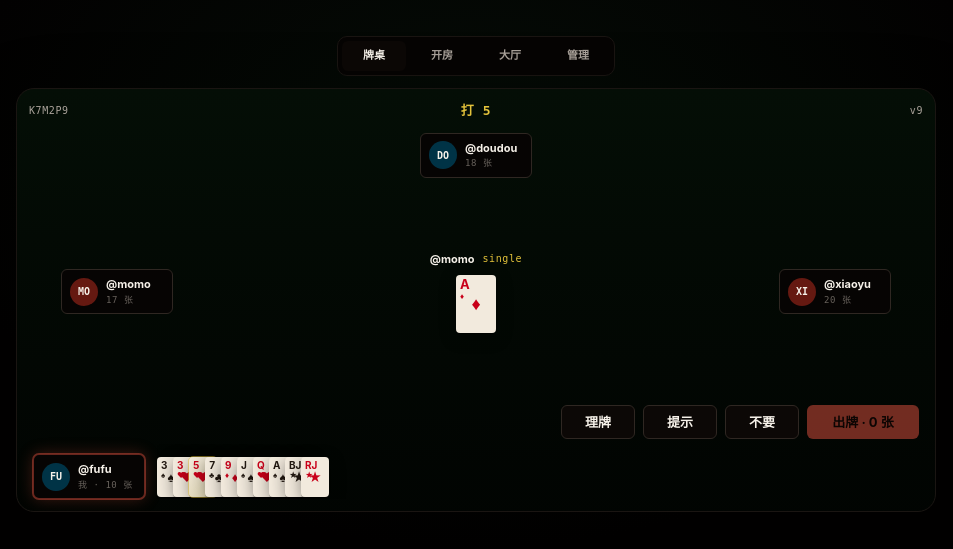
App shell › uses assistance APIs to sort and select a suggested move
Click the button "开房" at (442, 56), box [410,41,474,71]
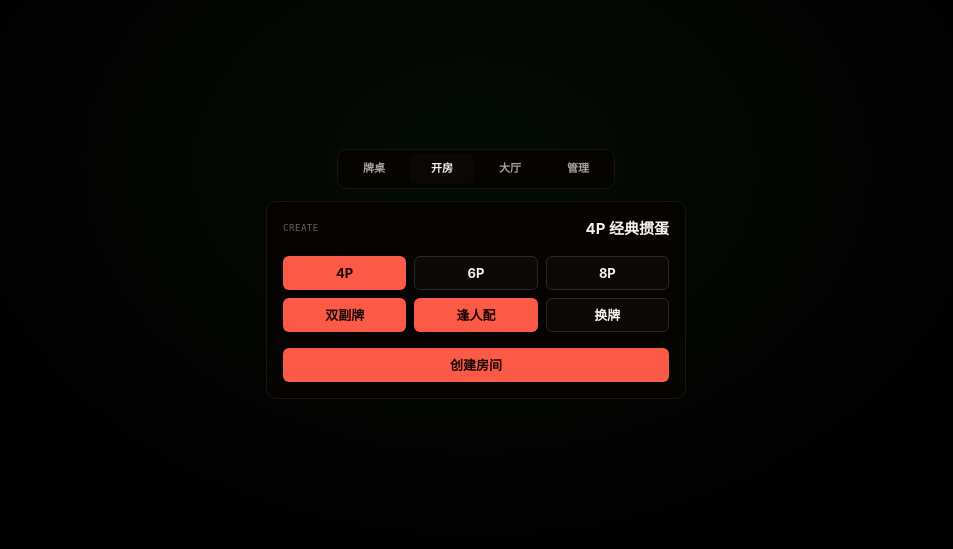
Click the button "创建房间" at (476, 365), box [283,348,669,382]
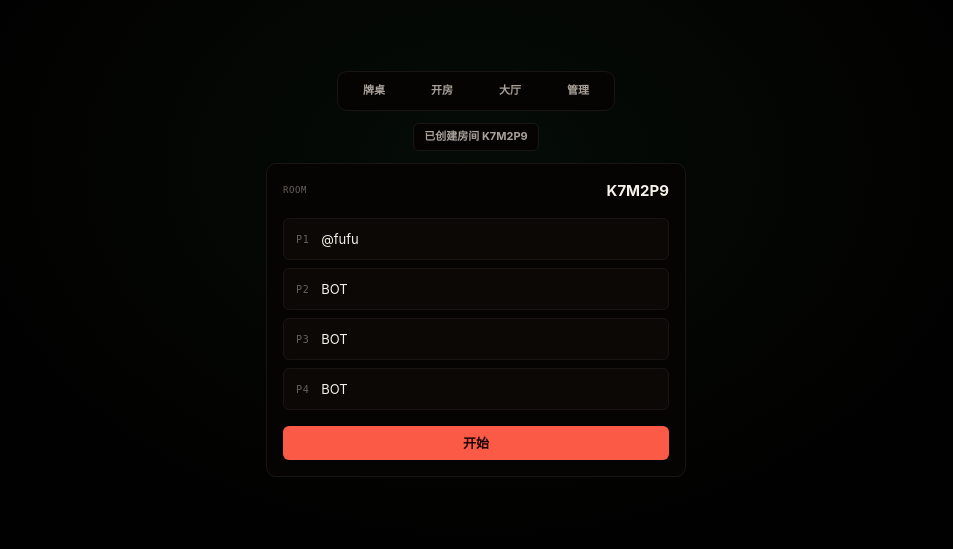
Click the button "开始" at (476, 443), box [283,426,669,460]
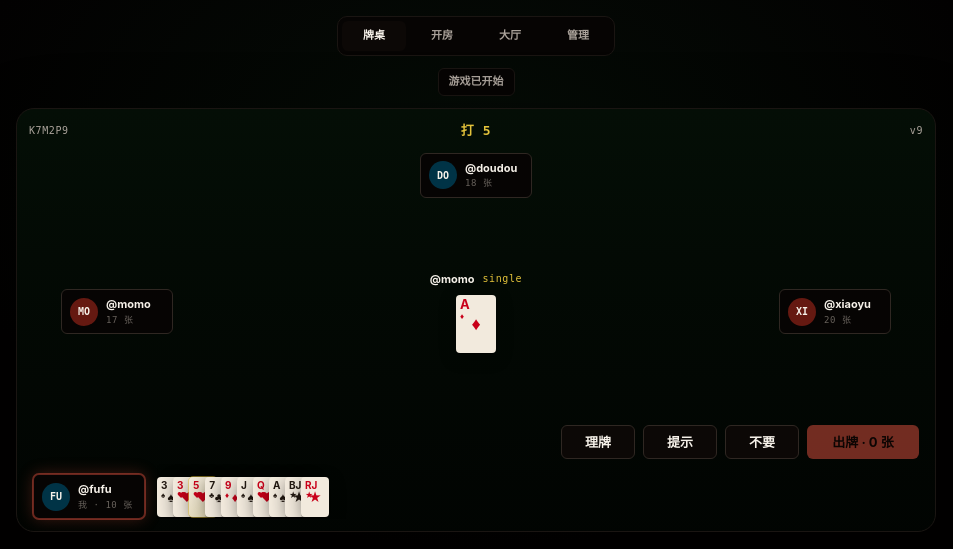
Click the button "理牌" at (598, 442), box [561,425,635,459]
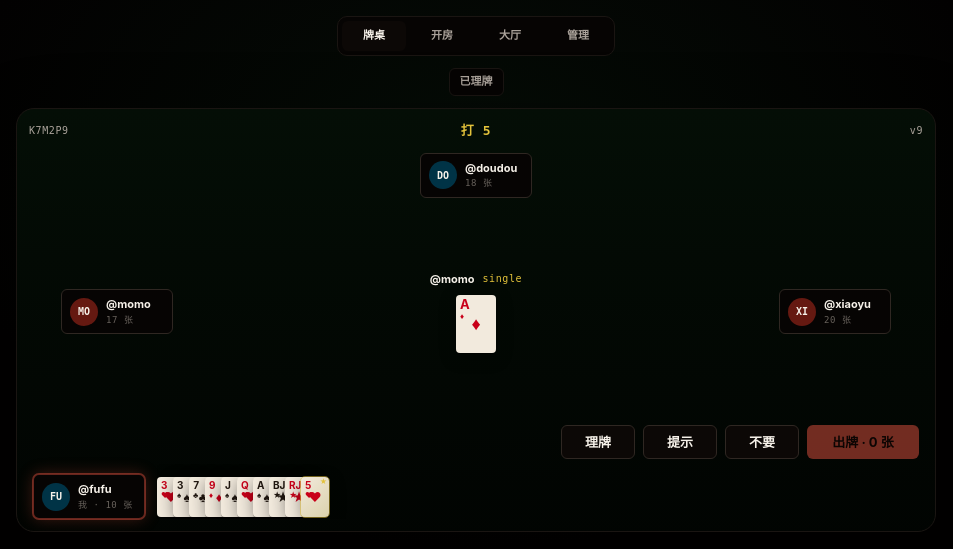
Expected: the button named "of" has attribute aria-label="3 of hearts", [157,477,185,517]
Click the button "提示" at (680, 442), box [643,425,717,459]
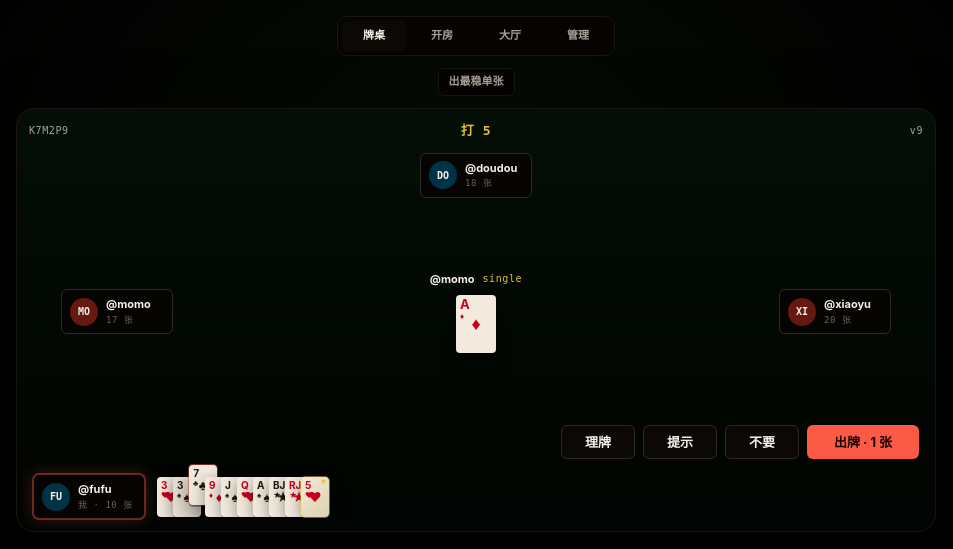
Expected: the text "出最稳单张" is shown, [438,68,514,96]
